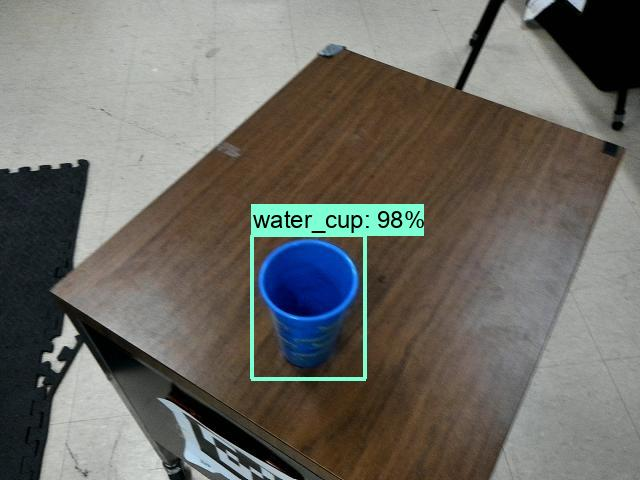water_cup: (256, 237, 364, 373)
